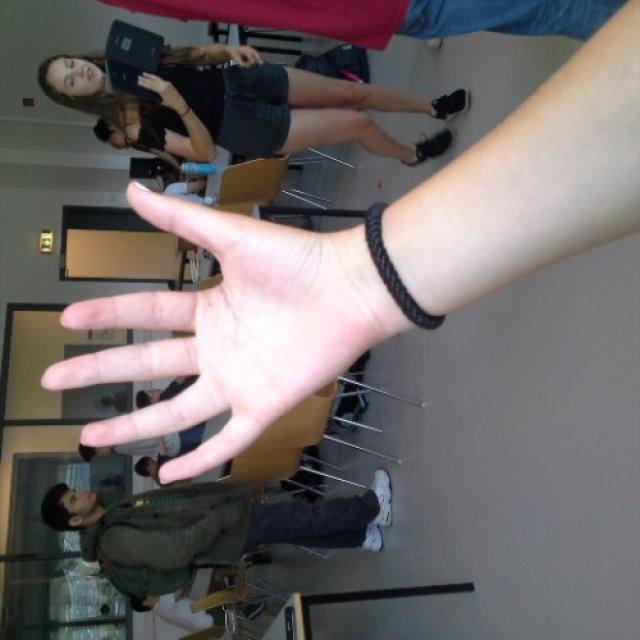paper: (35, 180, 334, 484)
